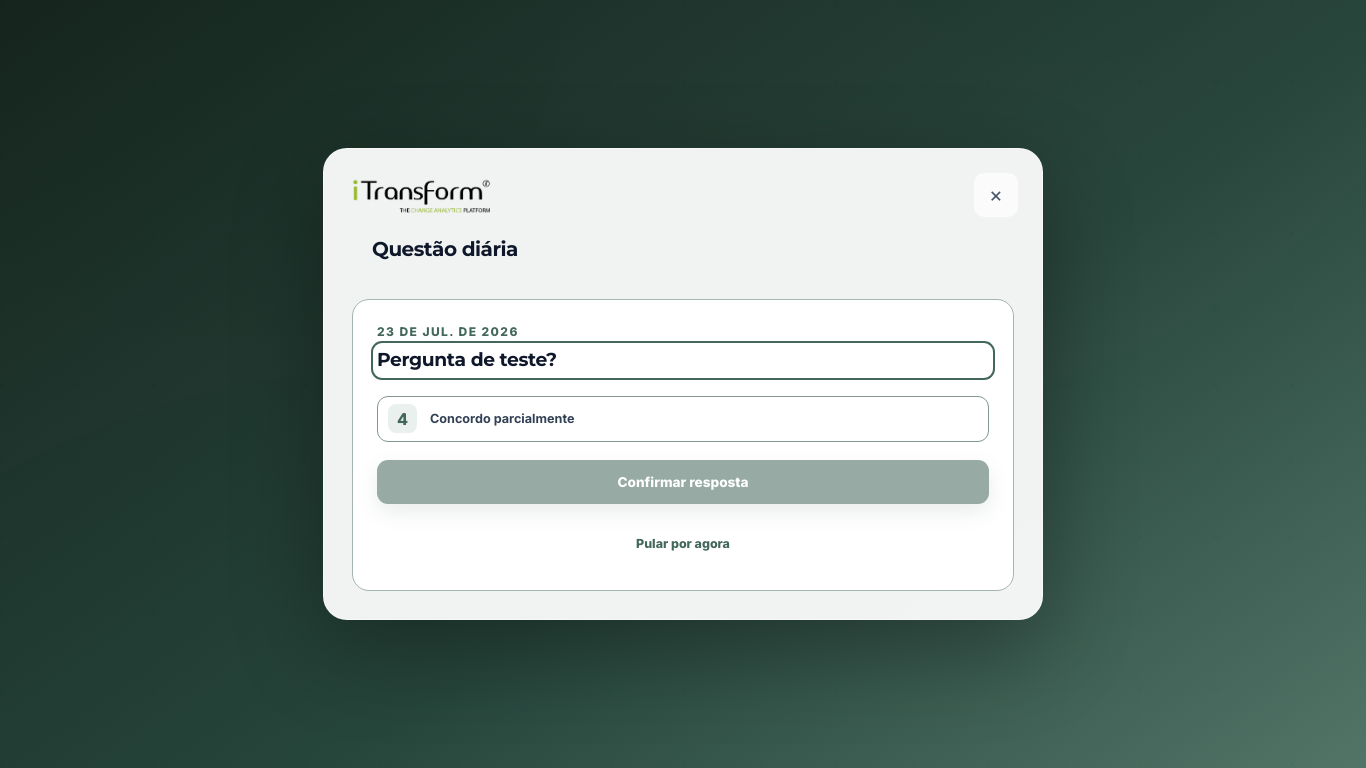
Test: iTransform Pulse app › keeps the selected answer available when submission fails
Step 1. Click the radio button labelled "4 Concordo parcialmente" → (502, 419), box left=377, top=396, right=989, bottom=442
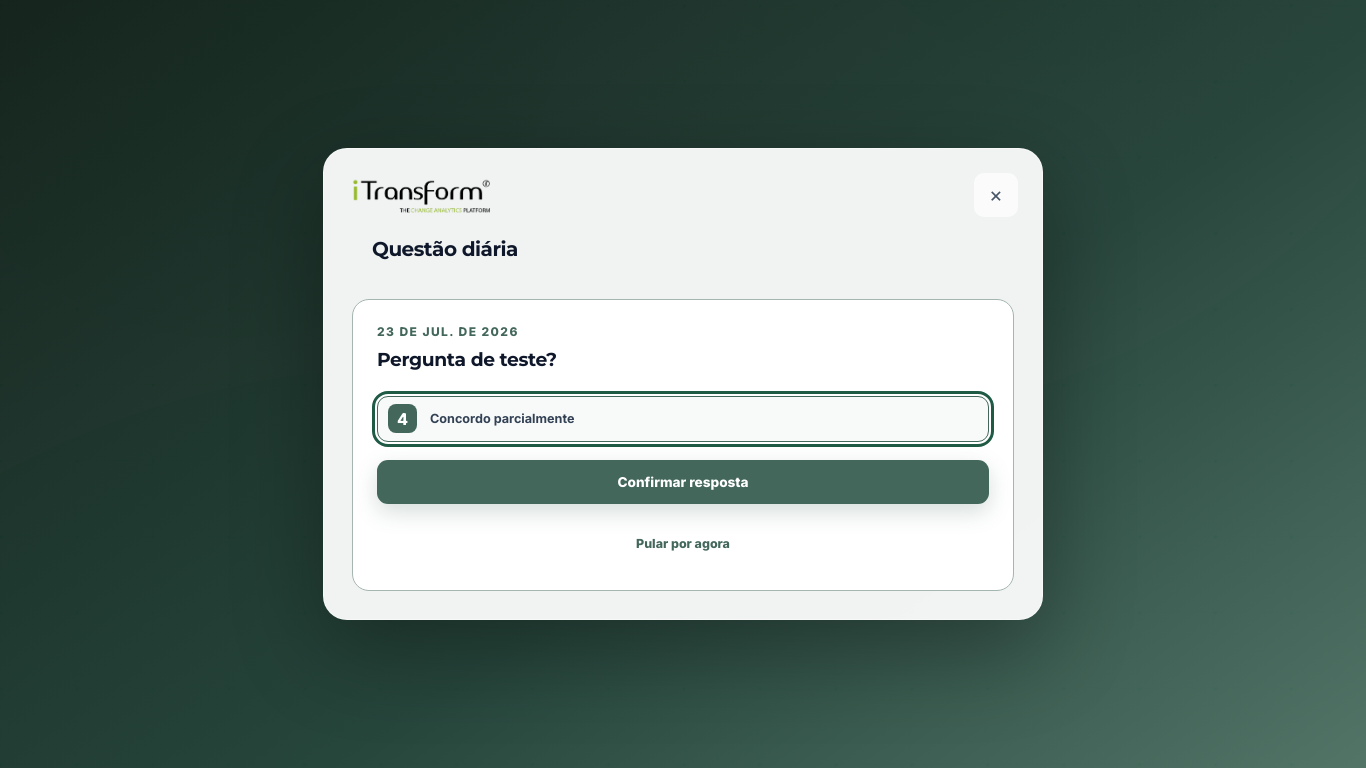
Step 2. Click the button "Confirmar resposta" → (683, 482), box left=377, top=460, right=989, bottom=504
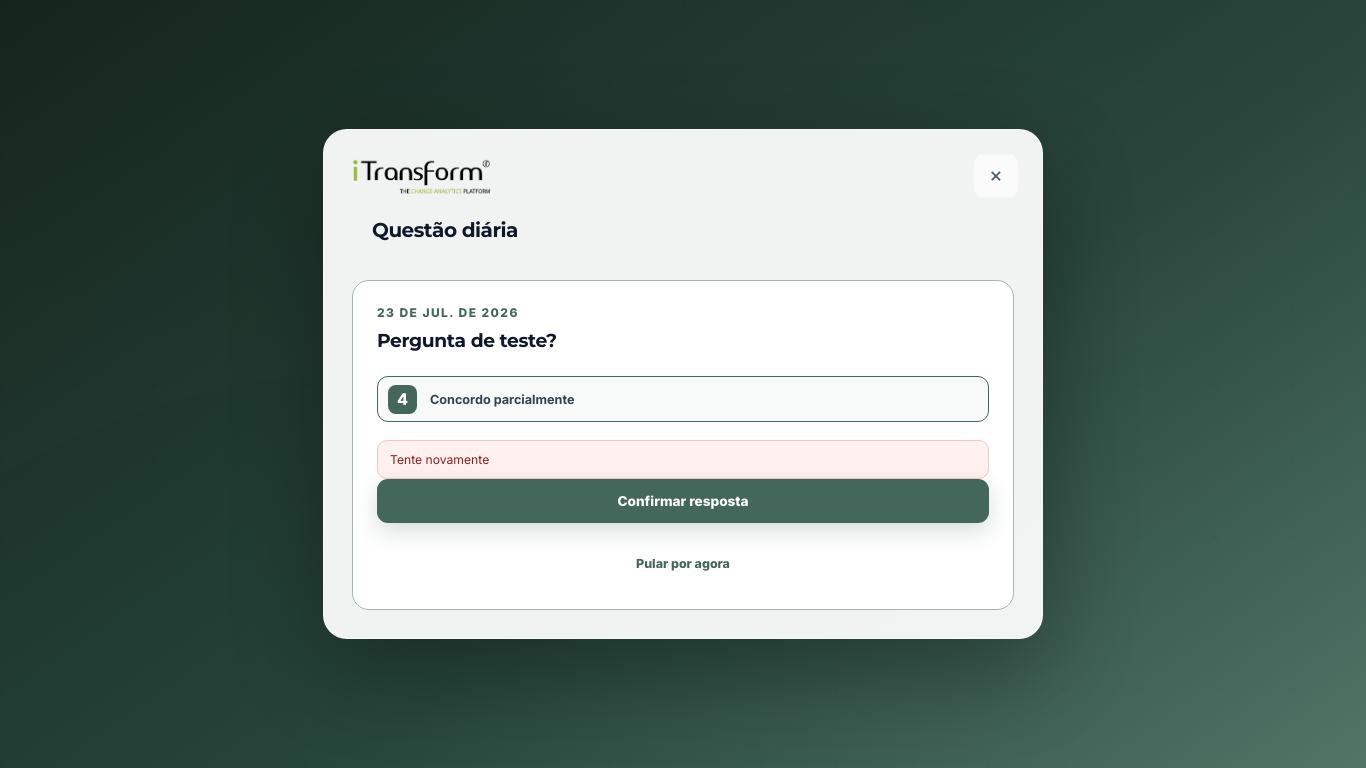
Expected: the message reads "Tente novamente", left=390, top=452, right=489, bottom=467
